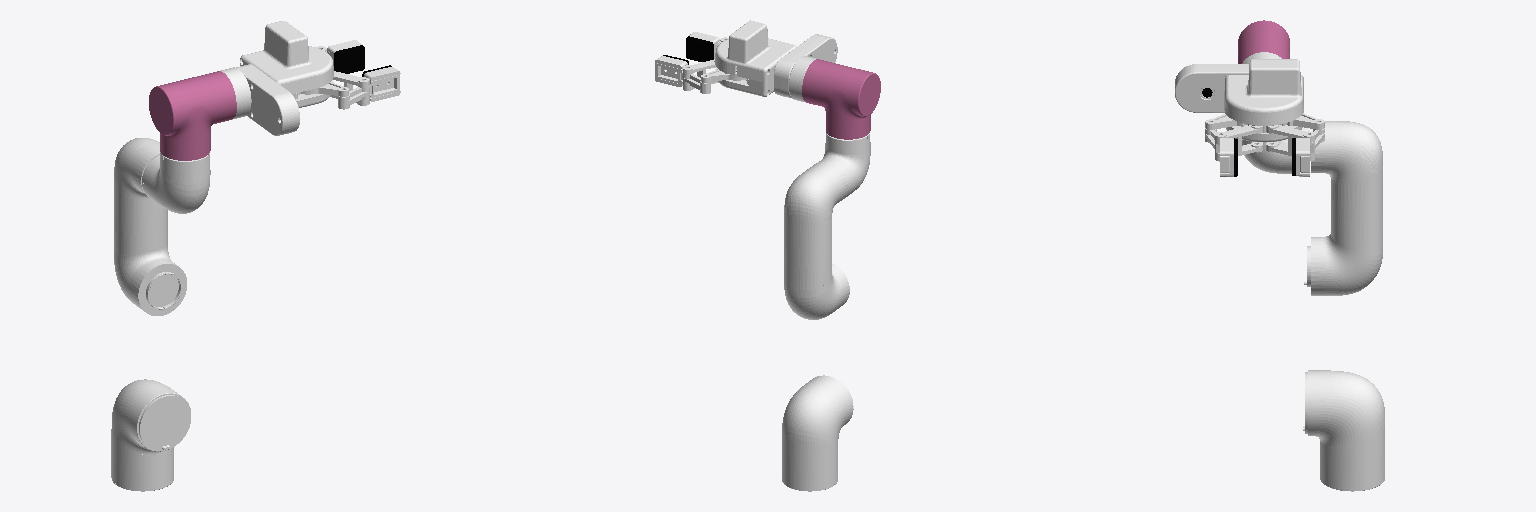
The robot description file, URDF, robot "mycobot_280_jn":
<?xml version="1.0"?>
<robot name="mycobot_280_jn">
  <link name="world"/>
  <joint name="world_to_joint1" type="fixed"><parent link="world"/><child link="joint1"/><origin xyz="0 0 0" rpy="0 0 0"/></joint>

  <link name="joint1">
    <visual>
      <geometry><mesh filename="package://mycobot_description/urdf/mycobot_280_jn_sim/meshes/visual/joint1.dae"/></geometry>
    </visual>
    <collision>
      <geometry><mesh filename="package://mycobot_description/urdf/mycobot_280_jn_sim/meshes/collision/joint1.stl"/></geometry>
    </collision>
    <inertial>
      <origin xyz="-0.000007 -0.000080 0.049738" rpy="0 0 0"/>
      <mass value="0.51726"/>
      <inertia ixx="1.2523e-03" ixy="7.0339e-09" ixz="-6.3450e-08" iyy="9.3955e-04" iyz="1.1529e-06" izz="1.2061e-03"/>
    </inertial>
  </link>
  <link name="joint2">
    <visual>
      <geometry><mesh filename="package://mycobot_description/urdf/mycobot_280_jn_sim/meshes/visual/joint2.dae"/></geometry>
    </visual>
    <collision>
      <geometry><mesh filename="package://mycobot_description/urdf/mycobot_280_jn_sim/meshes/collision/joint2.stl"/></geometry>
    </collision>
    <inertial>
      <origin xyz="-0.000000 -0.006642 -0.021543" rpy="0 0 0"/>
      <mass value="0.06483"/>
      <inertia ixx="4.7296e-05" ixy="-1.4455e-10" ixz="4.0893e-11" iyy="4.2690e-05" iyz="5.2950e-06" izz="2.4363e-05"/>
    </inertial>
  </link>
  <link name="joint3">
    <visual>
      <geometry><mesh filename="package://mycobot_description/urdf/mycobot_280_jn_sim/meshes/visual/joint3.dae"/></geometry>
    </visual>
    <collision>
      <geometry><mesh filename="package://mycobot_description/urdf/mycobot_280_jn_sim/meshes/collision/joint3.stl"/></geometry>
    </collision>
    <inertial>
      <origin xyz="-0.054329 -0.000001 0.055329" rpy="0 0 0"/>
      <mass value="0.11472"/>
      <inertia ixx="4.1667e-05" ixy="-4.5301e-09" ixz="-7.2144e-07" iyy="2.1506e-04" iyz="-8.8599e-10" izz="2.0847e-04"/>
    </inertial>
  </link>
  <link name="joint4">
    <visual>
      <geometry><mesh filename="package://mycobot_description/urdf/mycobot_280_jn_sim/meshes/visual/joint4.dae"/></geometry>
    </visual>
    <collision>
      <geometry><mesh filename="package://mycobot_description/urdf/mycobot_280_jn_sim/meshes/collision/joint4.stl"/></geometry>
    </collision>
    <inertial>
      <origin xyz="-0.045854 0.000000 0.007555" rpy="0 0 0"/>
      <mass value="0.09148"/>
      <inertia ixx="3.0829e-05" ixy="2.4590e-09" ixz="-3.0073e-06" iyy="1.3707e-04" iyz="1.3305e-09" izz="1.2859e-04"/>
    </inertial>
  </link>
  <link name="joint5">
    <visual>
      <geometry><mesh filename="package://mycobot_description/urdf/mycobot_280_jn_sim/meshes/visual/joint5.dae"/></geometry>
    </visual>
    <collision>
      <geometry><mesh filename="package://mycobot_description/urdf/mycobot_280_jn_sim/meshes/collision/joint5.stl"/></geometry>
    </collision>
    <inertial>
      <origin xyz="0.000001 -0.009519 -0.008481" rpy="0 0 0"/>
      <mass value="0.02935"/>
      <inertia ixx="1.1293e-05" ixy="2.2528e-10" ixz="1.0500e-10" iyy="8.1426e-06" iyz="1.6096e-06" izz="8.8742e-06"/>
    </inertial>
  </link>
  <link name="joint6">
    <visual>
      <geometry><mesh filename="package://mycobot_description/urdf/mycobot_280_jn_sim/meshes/visual/joint6.dae"/></geometry>
    </visual>
    <collision>
      <geometry><mesh filename="package://mycobot_description/urdf/mycobot_280_jn_sim/meshes/collision/joint6.stl"/></geometry>
    </collision>
    <inertial>
      <origin xyz="-0.000000 0.005619 -0.009142" rpy="0 0 0"/>
      <mass value="0.03671"/>
      <inertia ixx="1.6852e-05" ixy="1.3225e-11" ixz="9.2639e-11" iyy="1.2050e-05" iyz="-8.3674e-07" izz="1.2581e-05"/>
    </inertial>
  </link>
  <link name="joint6_flange">
    <visual>
      <geometry><mesh filename="package://mycobot_description/urdf/mycobot_280_jn_sim/meshes/visual/joint6_flange.dae"/></geometry>
    </visual>
    <collision>
      <geometry><mesh filename="package://mycobot_description/urdf/mycobot_280_jn_sim/meshes/collision/joint6_flange.stl"/></geometry>
    </collision>
    <inertial>
      <origin xyz="-0.000000 -0.000000 -0.005150" rpy="0 0 0"/>
      <mass value="0.00565"/>
      <inertia ixx="6.0852e-07" ixy="-5.1861e-24" ixz="1.4684e-24" iyy="6.0852e-07" iyz="-7.5632e-16" izz="1.0405e-06"/>
    </inertial>
  </link>
  <joint name="joint2_to_joint1" type="revolute">
    <parent link="joint1"/><child link="joint2"/>
    <origin xyz="0 0 0.15756" rpy="0 0 0"/>
    <axis xyz="0 0 1"/>
    <limit effort="10.0" lower="-2.9321" upper="2.9321" velocity="1.0"/>
    <dynamics damping="0.1" friction="0.01"/>
  </joint>
  <joint name="joint3_to_joint2" type="revolute">
    <parent link="joint2"/><child link="joint3"/>
    <origin xyz="0 0 -0.001" rpy="0 1.5708 -1.5708"/>
    <axis xyz="0 0 1"/>
    <limit effort="10.0" lower="-2.4434" upper="2.4434" velocity="1.0"/>
    <dynamics damping="0.1" friction="0.01"/>
  </joint>
  <joint name="joint4_to_joint3" type="revolute">
    <parent link="joint3"/><child link="joint4"/>
    <origin xyz="-0.1104 0 0" rpy="0 0 0"/>
    <axis xyz="0 0 1"/>
    <limit effort="10.0" lower="-2.6179" upper="2.6179" velocity="1.0"/>
    <dynamics damping="0.1" friction="0.01"/>
  </joint>
  <joint name="joint5_to_joint4" type="revolute">
    <parent link="joint4"/><child link="joint5"/>
    <origin xyz="-0.096 0 0.06462" rpy="0 0 -1.5708"/>
    <axis xyz="0 0 1"/>
    <limit effort="10.0" lower="-2.6179" upper="2.6179" velocity="1.0"/>
    <dynamics damping="0.1" friction="0.01"/>
  </joint>
  <joint name="joint6_to_joint5" type="revolute">
    <parent link="joint5"/><child link="joint6"/>
    <origin xyz="0 -0.07318 0" rpy="1.5708 -1.5708 0"/>
    <axis xyz="0 0 1"/>
    <limit effort="10.0" lower="-2.7052" upper="2.7925" velocity="1.0"/>
    <dynamics damping="0.1" friction="0.01"/>
  </joint>
  <joint name="joint6output_to_joint6" type="revolute">
    <parent link="joint6"/><child link="joint6_flange"/>
    <origin xyz="0 0.0456 0" rpy="-1.5708 0 0"/>
    <axis xyz="0 0 1"/>
    <limit effort="10.0" lower="-3.14159" upper="3.14159" velocity="1.0"/>
    <dynamics damping="0.1" friction="0.01"/>
  </joint>
  <joint name="joint6output_to_gripper_base" type="fixed">
    <parent link="joint6_flange"/><child link="gripper_base"/>
    <origin xyz="0 0 0.0505" rpy="1.5708 0 0"/>
  </joint>
  <link name="gripper_base">
    <visual>
      <geometry><mesh filename="package://mycobot_description/urdf/mycobot_280_jn_sim/meshes/visual/gripper_base.dae"/></geometry>
    </visual>
    <collision>
      <geometry><mesh filename="package://mycobot_description/urdf/mycobot_280_jn_sim/meshes/collision/gripper_base.stl"/></geometry>
    </collision>
    <inertial>
      <origin xyz="-0.001001 -0.003635 0.008093" rpy="0 0 0"/>
      <mass value="0.07075"/>
      <inertia ixx="2.8026e-05" ixy="5.3586e-08" ixz="1.3520e-06" iyy="2.7596e-05" iyz="-2.1469e-07" izz="3.3185e-05"/>
    </inertial>
  </link>
  <link name="gripper_left1">
    <visual>
      <geometry><mesh filename="package://mycobot_description/urdf/mycobot_280_jn_sim/meshes/visual/gripper_left1.dae"/></geometry>
    </visual>
    <collision>
      <geometry><mesh filename="package://mycobot_description/urdf/mycobot_280_jn_sim/meshes/collision/gripper_left1.stl"/></geometry>
    </collision>
    <inertial>
      <origin xyz="0.008214 0.028640 -0.008200" rpy="0 0 0"/>
      <mass value="0.00818"/>
      <inertia ixx="1.9436e-06" ixy="-4.0582e-07" ixz="-4.5846e-18" iyy="4.9518e-07" iyz="1.0352e-17" izz="1.9801e-06"/>
    </inertial>
  </link>
  <link name="gripper_left2">
    <visual>
      <geometry><mesh filename="package://mycobot_description/urdf/mycobot_280_jn_sim/meshes/visual/gripper_left2.dae"/></geometry>
    </visual>
    <collision>
      <geometry><mesh filename="package://mycobot_description/urdf/mycobot_280_jn_sim/meshes/collision/gripper_left2.stl"/></geometry>
    </collision>
    <inertial>
      <origin xyz="-0.014480 0.007475 -0.008200" rpy="0 0 0"/>
      <mass value="0.00382"/>
      <inertia ixx="2.5930e-07" ixy="1.8945e-07" ixz="3.4700e-22" iyy="4.8476e-07" iyz="-1.7350e-22" izz="4.9007e-07"/>
    </inertial>
  </link>
  <link name="gripper_left3">
    <visual>
      <geometry><mesh filename="package://mycobot_description/urdf/mycobot_280_jn_sim/meshes/visual/gripper_left3.dae"/></geometry>
    </visual>
    <collision>
      <geometry><mesh filename="package://mycobot_description/urdf/mycobot_280_jn_sim/meshes/collision/gripper_left3.stl"/></geometry>
    </collision>
    <inertial>
      <origin xyz="-0.007273 0.003393 -0.000700" rpy="0 0 0"/>
      <mass value="0.00262"/>
      <inertia ixx="1.8212e-07" ixy="1.1552e-07" ixz="3.0543e-22" iyy="3.1951e-07" iyz="-1.8344e-22" izz="4.9073e-07"/>
    </inertial>
  </link>
  <link name="gripper_right1">
    <visual>
      <geometry><mesh filename="package://mycobot_description/urdf/mycobot_280_jn_sim/meshes/visual/gripper_right1.dae"/></geometry>
    </visual>
    <collision>
      <geometry><mesh filename="package://mycobot_description/urdf/mycobot_280_jn_sim/meshes/collision/gripper_right1.stl"/></geometry>
    </collision>
    <inertial>
      <origin xyz="-0.009429 0.029012 -0.008200" rpy="0 0 0"/>
      <mass value="0.00818"/>
      <inertia ixx="1.9436e-06" ixy="4.0581e-07" ixz="-4.5855e-18" iyy="4.9518e-07" iyz="-1.0353e-17" izz="1.9801e-06"/>
    </inertial>
  </link>
  <link name="gripper_right2">
    <visual>
      <geometry><mesh filename="package://mycobot_description/urdf/mycobot_280_jn_sim/meshes/visual/gripper_right2.dae"/></geometry>
    </visual>
    <collision>
      <geometry><mesh filename="package://mycobot_description/urdf/mycobot_280_jn_sim/meshes/collision/gripper_right2.stl"/></geometry>
    </collision>
    <inertial>
      <origin xyz="0.013373 0.007661 -0.008200" rpy="0 0 0"/>
      <mass value="0.00382"/>
      <inertia ixx="2.6459e-07" ixy="-1.9250e-07" ixz="-4.0483e-22" iyy="4.7946e-07" iyz="2.8917e-23" izz="4.9007e-07"/>
    </inertial>
  </link>
  <link name="gripper_right3">
    <visual>
      <geometry><mesh filename="package://mycobot_description/urdf/mycobot_280_jn_sim/meshes/visual/gripper_right3.dae"/></geometry>
    </visual>
    <collision>
      <geometry><mesh filename="package://mycobot_description/urdf/mycobot_280_jn_sim/meshes/collision/gripper_right3.stl"/></geometry>
    </collision>
    <inertial>
      <origin xyz="0.006227 0.003481 -0.000700" rpy="0 0 0"/>
      <mass value="0.00262"/>
      <inertia ixx="1.8527e-07" ixy="-1.1744e-07" ixz="-1.9519e-22" iyy="3.1623e-07" iyz="-1.5091e-22" izz="4.9060e-07"/>
    </inertial>
  </link>
  <joint name="gripper_controller" type="revolute">
    <parent link="gripper_base"/><child link="gripper_left3"/>
    <origin xyz="-0.012 0.005 0" rpy="0 0 0"/>
    <axis xyz="0 0 1"/>
    <limit effort="10.0" lower="-0.74" upper="0.15" velocity="1.0"/>
    <dynamics damping="0.1" friction="0.01"/>
  </joint>
  <joint name="gripper_base_to_gripper_left2" type="revolute">
    <parent link="gripper_base"/><child link="gripper_left2"/>
    <origin xyz="-0.005 0.027 0" rpy="0 0 0"/>
    <axis xyz="0 0 1"/>
    <limit effort="10.0" lower="-0.8" upper="0.5" velocity="1.0"/>
    <dynamics damping="0.1" friction="0.01"/>
    <mimic joint="gripper_controller" multiplier="1.0" offset="0"/>
  </joint>
  <joint name="gripper_left3_to_gripper_left1" type="revolute">
    <parent link="gripper_left3"/><child link="gripper_left1"/>
    <origin xyz="-0.027 0.016 0" rpy="0 0 0"/>
    <axis xyz="0 0 1"/>
    <limit effort="10.0" lower="-0.5" upper="0.5" velocity="1.0"/>
    <dynamics damping="0.1" friction="0.01"/>
    <mimic joint="gripper_controller" multiplier="-1.0" offset="0"/>
  </joint>
  <joint name="gripper_base_to_gripper_right3" type="revolute">
    <parent link="gripper_base"/><child link="gripper_right3"/>
    <origin xyz="0.012 0.005 0" rpy="0 0 0"/>
    <axis xyz="0 0 1"/>
    <limit effort="10.0" lower="-0.15" upper="0.7" velocity="1.0"/>
    <dynamics damping="0.1" friction="0.01"/>
    <mimic joint="gripper_controller" multiplier="-1.0" offset="0"/>
  </joint>
  <joint name="gripper_base_to_gripper_right2" type="revolute">
    <parent link="gripper_base"/><child link="gripper_right2"/>
    <origin xyz="0.005 0.027 0" rpy="0 0 0"/>
    <axis xyz="0 0 1"/>
    <limit effort="10.0" lower="-0.5" upper="0.8" velocity="1.0"/>
    <dynamics damping="0.1" friction="0.01"/>
    <mimic joint="gripper_controller" multiplier="-1.0" offset="0"/>
  </joint>
  <joint name="gripper_right3_to_gripper_right1" type="revolute">
    <parent link="gripper_right3"/><child link="gripper_right1"/>
    <origin xyz="0.027 0.016 0" rpy="0 0 0"/>
    <axis xyz="0 0 1"/>
    <limit effort="10.0" lower="-0.5" upper="0.5" velocity="1.0"/>
    <dynamics damping="0.1" friction="0.01"/>
    <mimic joint="gripper_controller" multiplier="1.0" offset="0"/>
  </joint>
  <joint name="joint6output_to_camera_flange" type="fixed">
    <parent link="joint6_flange"/><child link="camera_flange"/>
    <origin xyz="0 0 0.01" rpy="1.5708 0 0"/>
  </joint>
  <link name="camera_flange">
    <visual>
      <geometry><mesh filename="package://mycobot_description/urdf/mycobot_280_jn_sim/meshes/visual/camera_flange.dae"/></geometry>
    </visual>
    <collision>
      <geometry><mesh filename="package://mycobot_description/urdf/mycobot_280_jn_sim/meshes/collision/camera_flange.stl"/></geometry>
    </collision>
    <inertial>
      <origin xyz="0.023130 0.000000 -0.000136" rpy="0 0 0"/>
      <mass value="0.03000"/>
      <inertia ixx="3.1836e-06" ixy="2.6569e-11" ixz="-3.1215e-09" iyy="1.7767e-05" iyz="4.1651e-11" izz="1.5849e-05"/>
    </inertial>
  </link>

  <!-- Simulated camera, placed on the lens of Elephant's camera-module mesh and looking out of it. -->
  <link name="camera_link"/>
  <joint name="camera_flange_to_camera_link" type="fixed">
    <parent link="camera_flange"/><child link="camera_link"/>
    <origin xyz="0.0415 0.0083 0.0000" rpy="0 0 1.5708"/>
  </joint>
  <gazebo reference="camera_link">
    <sensor name="wrist_camera" type="camera">
      <always_on>1</always_on><update_rate>30</update_rate><visualize>true</visualize>
      <topic>wrist_camera/image_raw</topic>
      <camera>
        <horizontal_fov>1.047</horizontal_fov>
        <image><width>640</width><height>480</height><format>R8G8B8</format></image>
        <clip><near>0.02</near><far>5.0</far></clip>
      </camera>
    </sensor>
  </gazebo>

  <!-- Gazebo: gravity off on the moving links (passive joints would otherwise fall; no controller yet) -->
  <gazebo reference="joint2"><turnGravityOff>true</turnGravityOff></gazebo>
  <gazebo reference="joint3"><turnGravityOff>true</turnGravityOff></gazebo>
  <gazebo reference="joint4"><turnGravityOff>true</turnGravityOff></gazebo>
  <gazebo reference="joint5"><turnGravityOff>true</turnGravityOff></gazebo>
  <gazebo reference="joint6"><turnGravityOff>true</turnGravityOff></gazebo>
  <gazebo reference="joint6_flange"><turnGravityOff>true</turnGravityOff></gazebo>
  <gazebo reference="gripper_base"><turnGravityOff>true</turnGravityOff></gazebo>
  <gazebo reference="gripper_left1"><turnGravityOff>true</turnGravityOff></gazebo>
  <gazebo reference="gripper_left2"><turnGravityOff>true</turnGravityOff></gazebo>
  <gazebo reference="gripper_left3"><turnGravityOff>true</turnGravityOff></gazebo>
  <gazebo reference="gripper_right1"><turnGravityOff>true</turnGravityOff></gazebo>
  <gazebo reference="gripper_right2"><turnGravityOff>true</turnGravityOff></gazebo>
  <gazebo reference="gripper_right3"><turnGravityOff>true</turnGravityOff></gazebo>
  <gazebo reference="camera_flange"><turnGravityOff>true</turnGravityOff></gazebo>
</robot>

--- What the picture shows (computed from the rendered views, not written in the file) ---
Views: 3 orthographic renders of the robot side by side, from view 1: azimuth 30°, elevation 25°; view 2: azimuth 150°, elevation 25°; view 3: azimuth 270°, elevation 25°.
Robot: mycobot_280_jn — 17 links, 16 joints (12 revolute, 4 fixed); root link world; default pose: all joints at 0.
Links seen in each view (by area): view 1: joint4, joint2, joint6, gripper_base, joint5, camera_flange, gripper_right1, gripper_left1, joint6_flange; view 2: joint4, joint2, joint6, gripper_base, joint5, camera_flange, gripper_left1, gripper_right1, joint6_flange; view 3: joint4, joint2, gripper_base, camera_flange, joint6, joint5, gripper_right1, gripper_left1, gripper_left2, gripper_right2.
Boxes of the visible links, x1,y1,x2,y2 form: joint4: [114, 138, 186, 315]; joint2: [111, 379, 190, 491]; joint6: [149, 71, 236, 160]; gripper_base: [240, 21, 333, 107]; joint5: [142, 152, 210, 213]; camera_flange: [236, 64, 299, 135]; gripper_right1: [338, 65, 400, 109]; gripper_left1: [327, 40, 364, 73]; joint6_flange: [221, 67, 251, 119]; joint4: [784, 161, 849, 319]; joint2: [782, 375, 853, 491]; joint6: [802, 59, 880, 139]; gripper_base: [715, 20, 797, 96]; joint5: [819, 133, 870, 200]; camera_flange: [774, 34, 837, 98]; gripper_left1: [655, 55, 710, 93]; gripper_right1: [686, 32, 719, 61]; joint6_flange: [789, 56, 815, 101]; joint4: [1304, 121, 1382, 295]; joint2: [1303, 370, 1384, 491]; gripper_base: [1224, 59, 1303, 141]; camera_flange: [1175, 64, 1248, 112]; joint6: [1238, 20, 1289, 63]; joint5: [1242, 127, 1309, 173]; gripper_right1: [1205, 128, 1237, 176]; gripper_left1: [1292, 128, 1324, 176]; gripper_left2: [1266, 125, 1314, 160]; gripper_right2: [1215, 125, 1262, 161].
Size in the robot's own frame: 0.1947 by 0.1541 by 0.3804 metres.
13 mesh visuals loaded from 15 distinct referenced files (13 Collada DAE); not drawn: 2 (reference not matched to a file when rendering).
